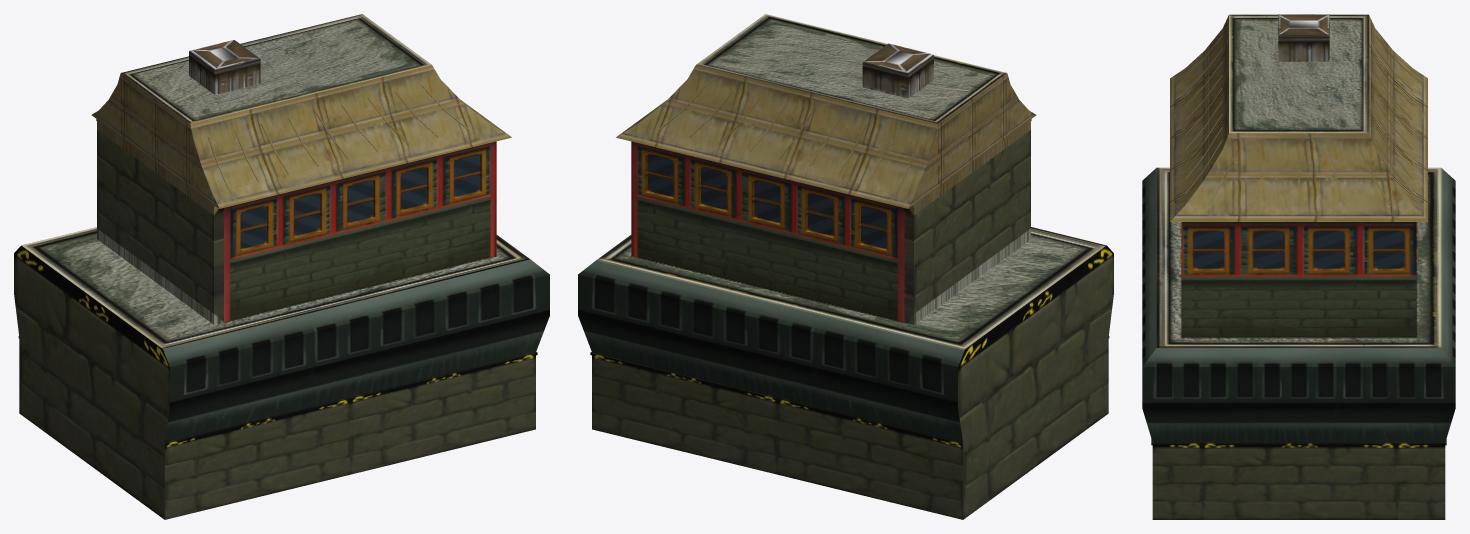
File: l_palacewing_cad.glb
The picture shows the model from 3 angles, left to right: view 1: azimuth 30°, elevation 25°; view 2: azimuth 150°, elevation 25°; view 3: azimuth 270°, elevation 25°; orthographic projection.
Parts seen in each view (by area): view 1: palace_wing; view 2: palace_wing; view 3: palace_wing.
Boxes of the visible parts, x1,y1,x2,y2 form: palace_wing: [14, 14, 549, 519]; palace_wing: [578, 14, 1113, 519]; palace_wing: [1142, 14, 1455, 519].
Bounding box in the file's own units: 30.85 × 29.31 × 21.91.
1 material, 1 textured.
